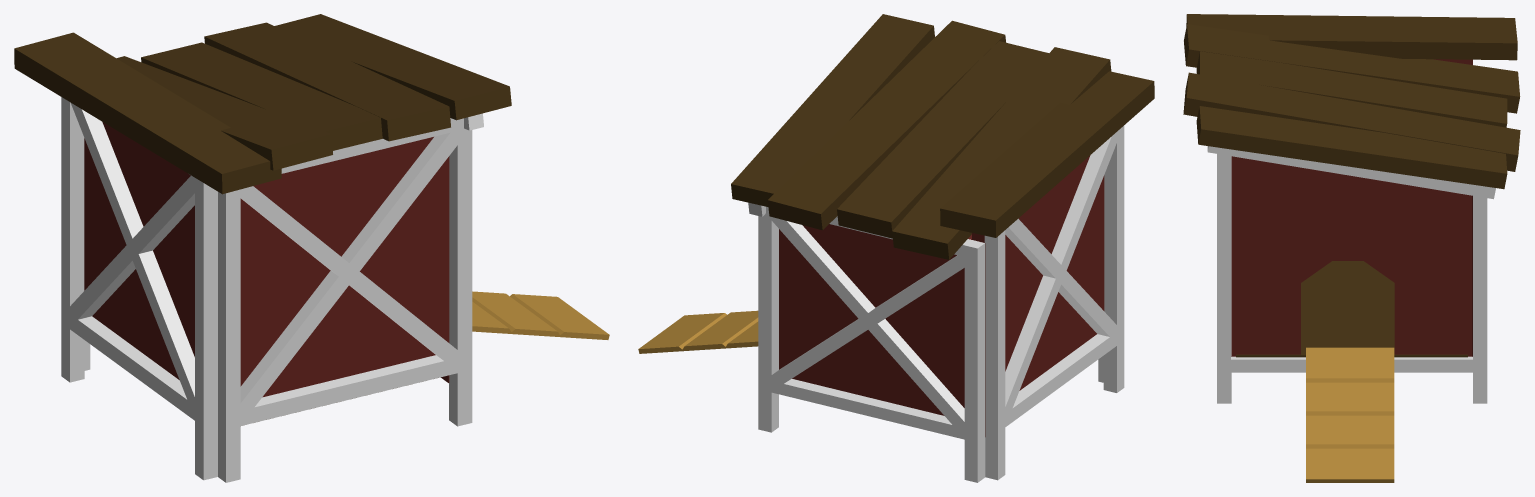
Rendered from henhouse.fbx.
3 renders of one model, left to right at view 1: azimuth 30°, elevation 25°; view 2: azimuth 150°, elevation 25°; view 3: azimuth 270°, elevation 25°, orthographic. The views are drawn at different scales.
Visible parts, largest first — view 1: henhouse; view 2: henhouse; view 3: henhouse.
Boxes of the visible parts, x1=… form: henhouse: x1=14, y1=14, x2=609, y2=482; henhouse: x1=638, y1=14, x2=1154, y2=482; henhouse: x1=1183, y1=14, x2=1520, y2=482.
Bounding box in the file's own units: 442 × 305 × 321.
